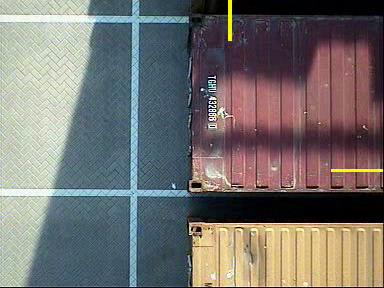groundmarker_2: (53, 175, 156, 246)
